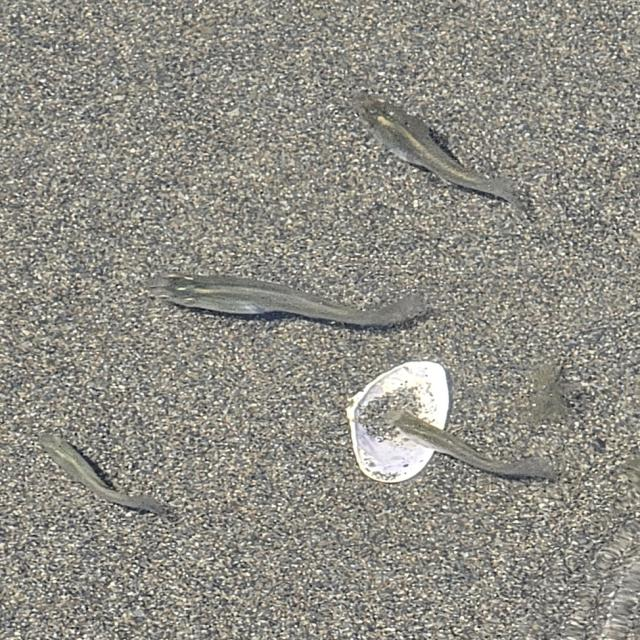Sivrisinek Baligi: (340, 84, 538, 219), (29, 423, 181, 523), (142, 270, 403, 328), (370, 408, 551, 484)
